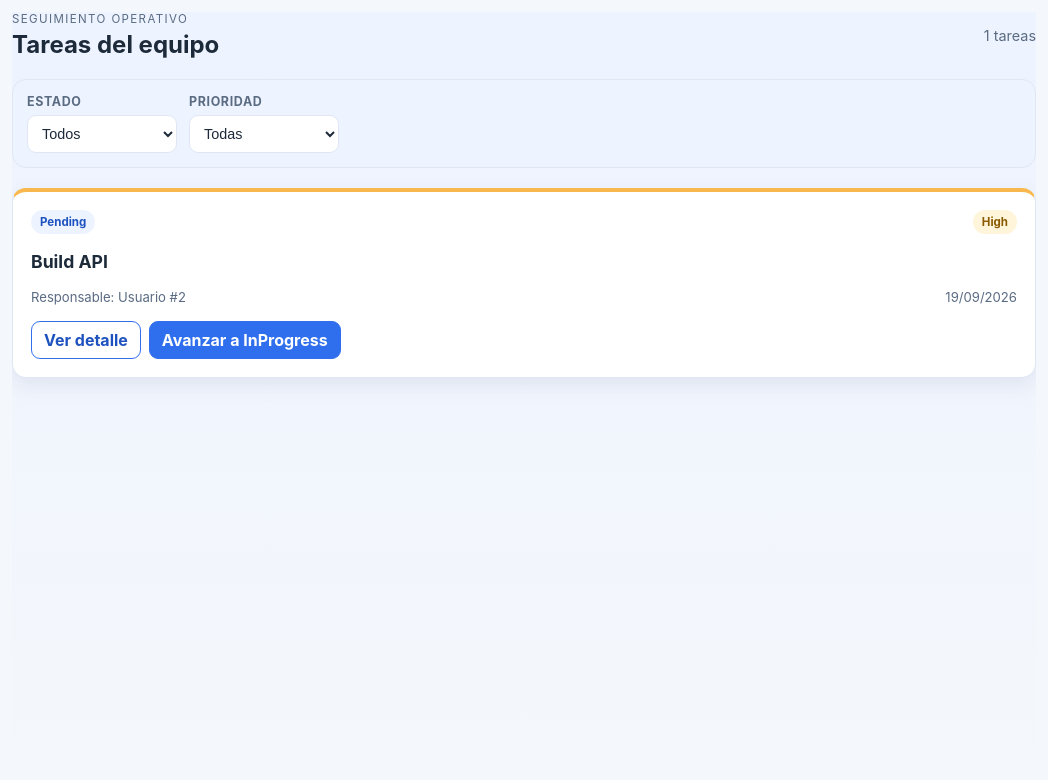
Test: TaskListComponent › opens a task detail panel without losing list context
Click the button with test id "task-details" at (86,340), box x1=31 y1=320 x2=141 y2=359
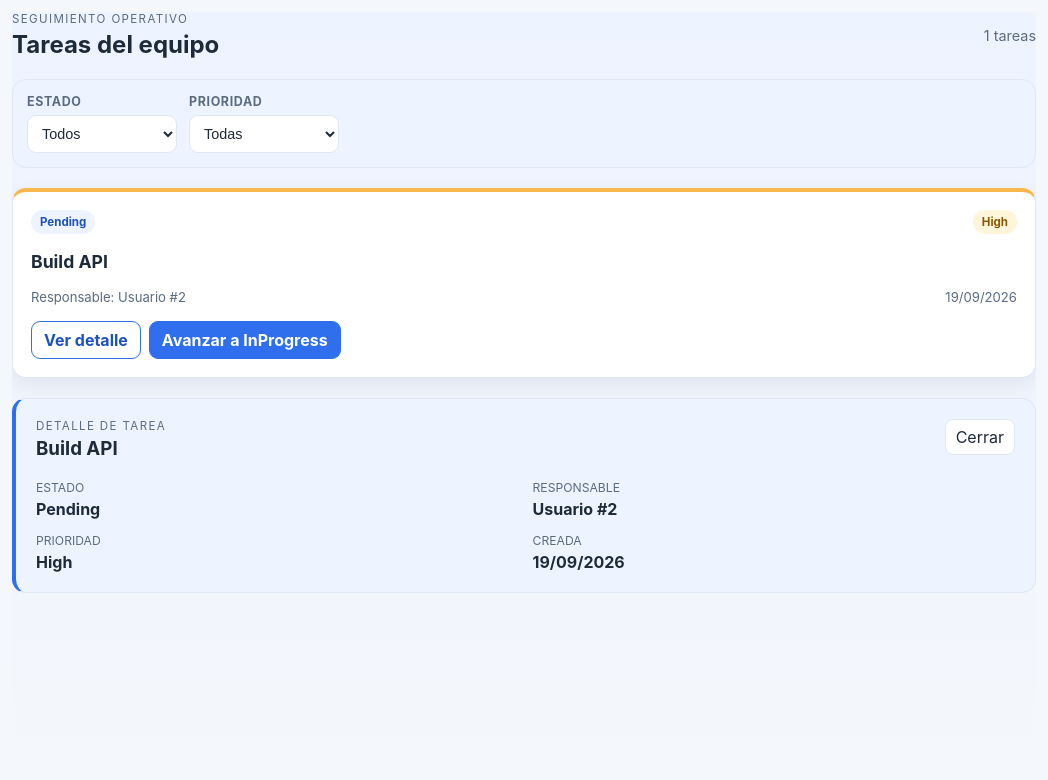
Now the element with test id "task-detail-panel" shows "Build API", box x1=36 y1=437 x2=118 y2=460
Now the element with test id "task-detail-panel" shows "Usuario #2", box x1=532 y1=499 x2=617 y2=519
Now the element with test id "task-detail-panel" shows "High", box x1=36 y1=552 x2=72 y2=572
